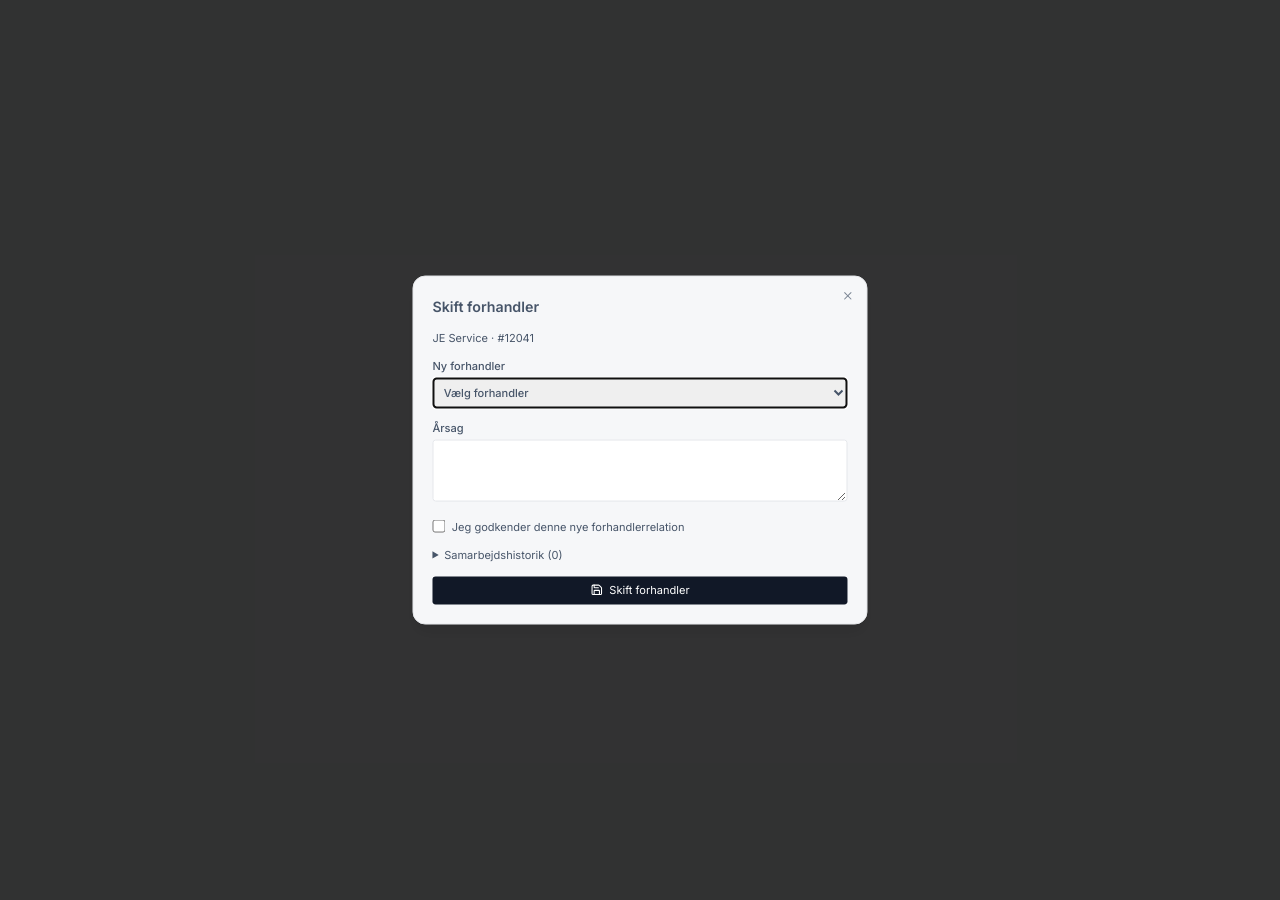
permanent Backend cooperation actions › clears explicit approval when a different dealer is selected
The width and height of the screenshot is (1280, 900).
Click the checkbox at (439, 526), box [432,519,445,532]
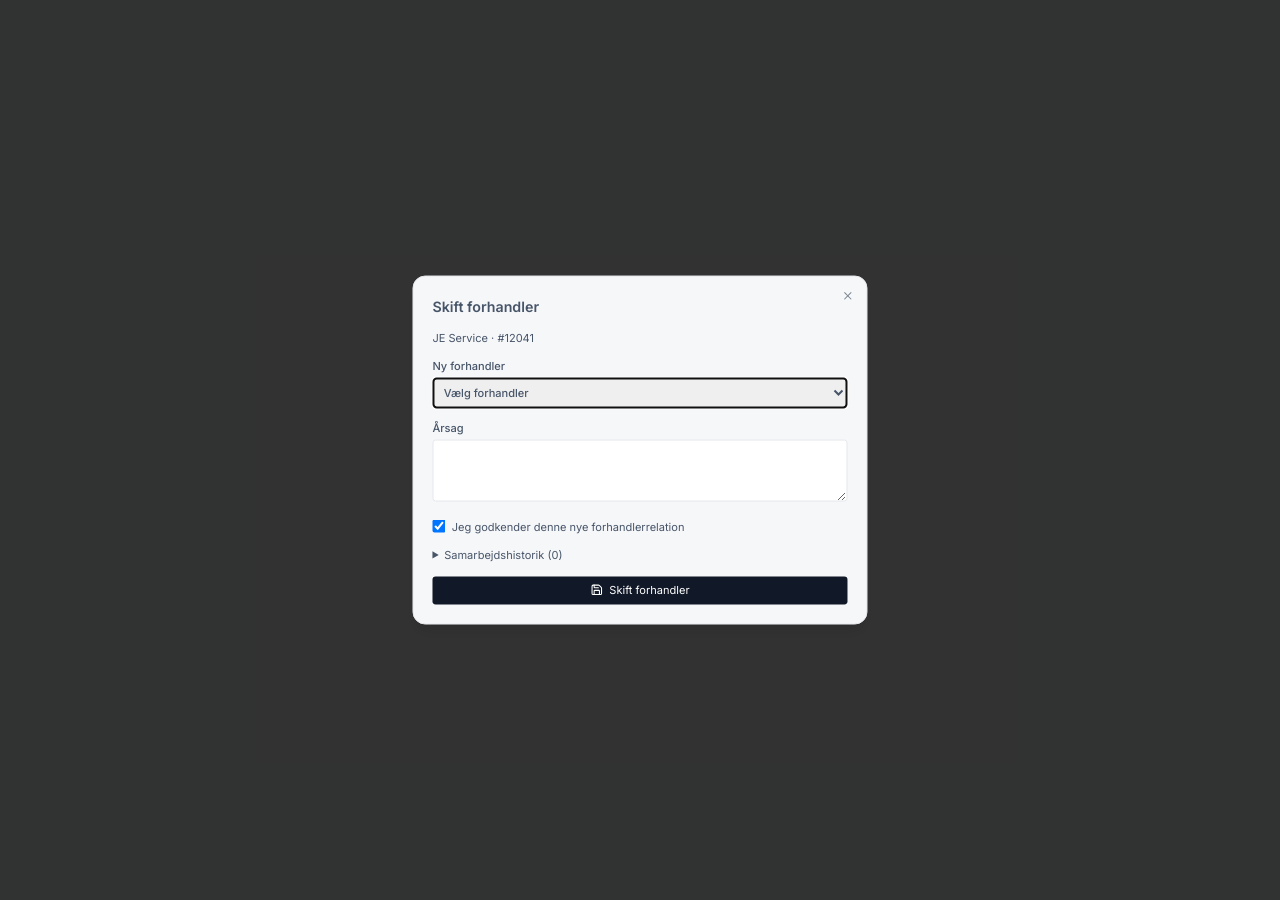
Now the checkbox is checked, box [432,519,445,532]
Select "10295 · AB Lauridsen" in the dropdown labelled "Ny forhandler" at (640, 393), box [432,378,848,408]
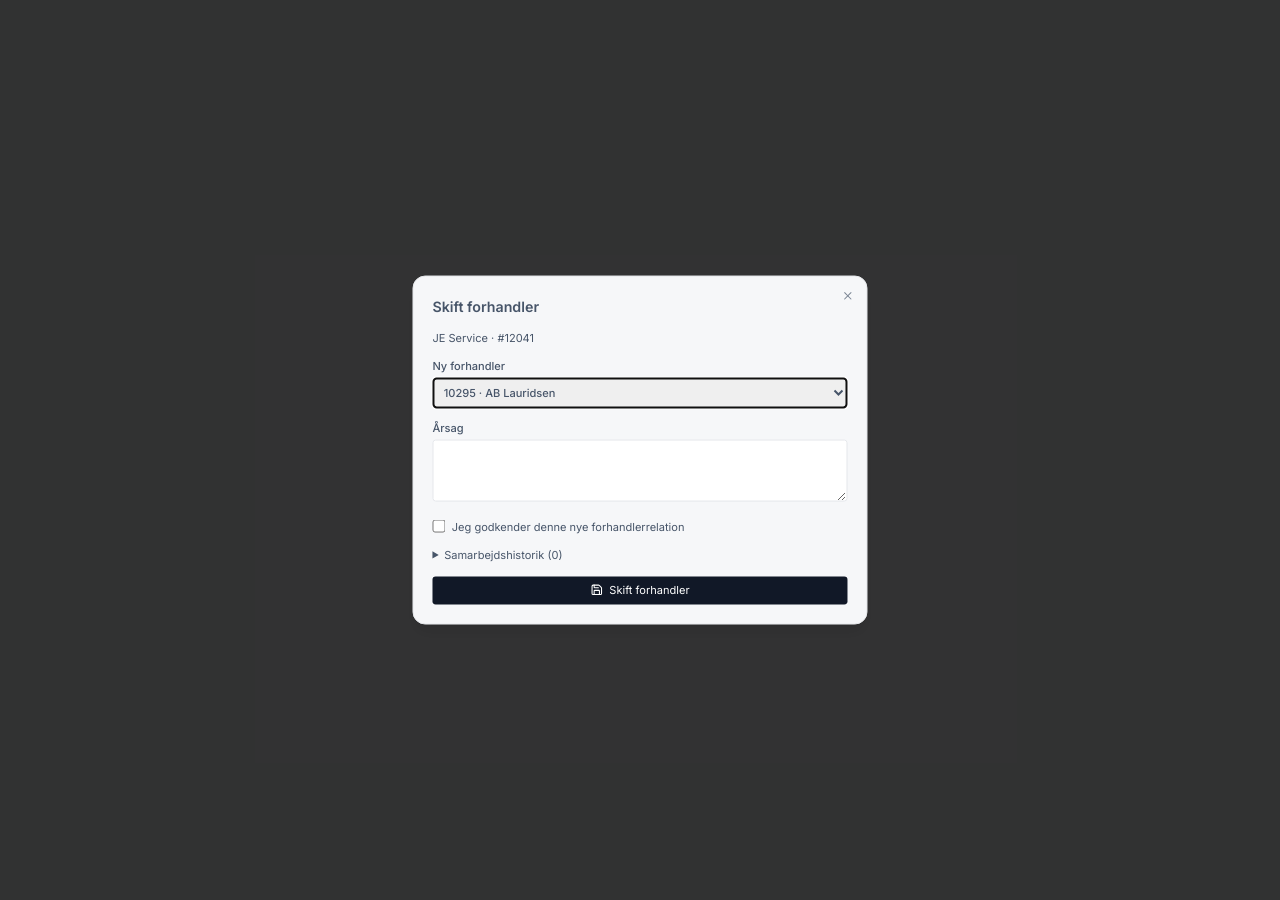
Now the checkbox is not checked, box [432,519,445,532]
